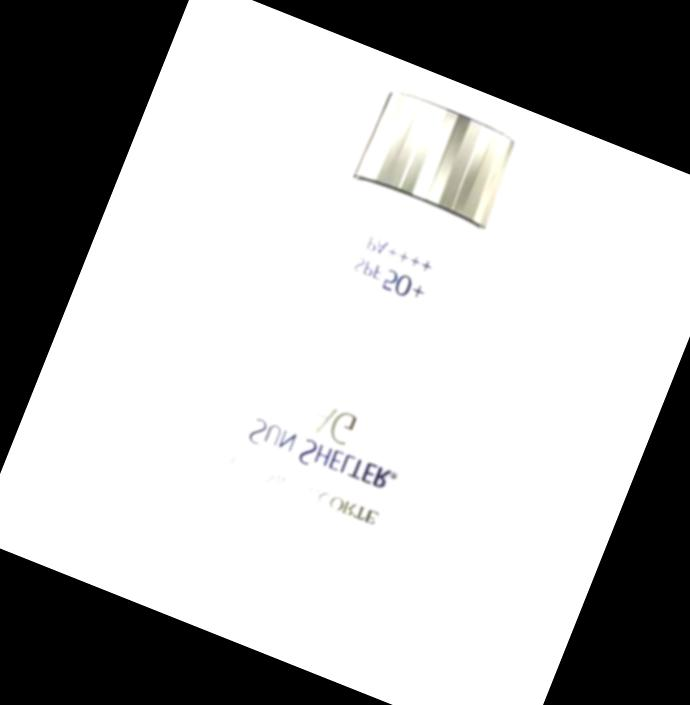cosmetic: (166, 73, 548, 639)
